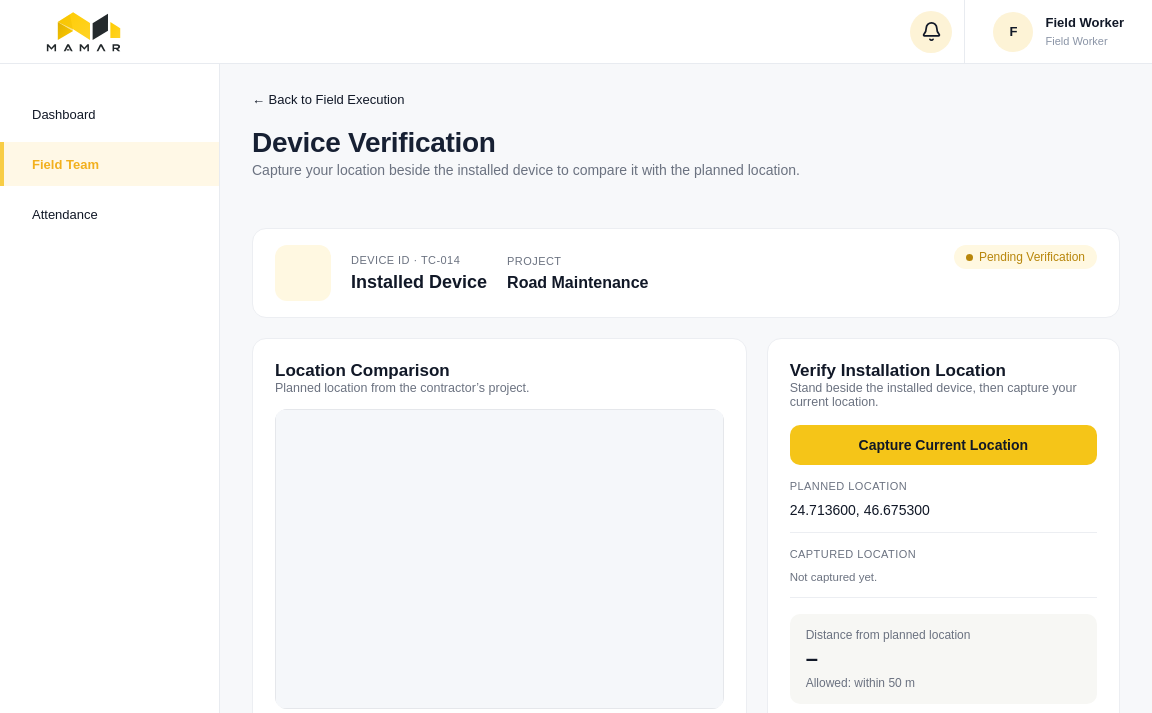
Field Worker DeviceVerification › allows verification at exactly the 50 metre boundary
Click the button "Capture Current Location".
click(943, 445)  # box [790, 425, 1097, 465]
(page scrolled)
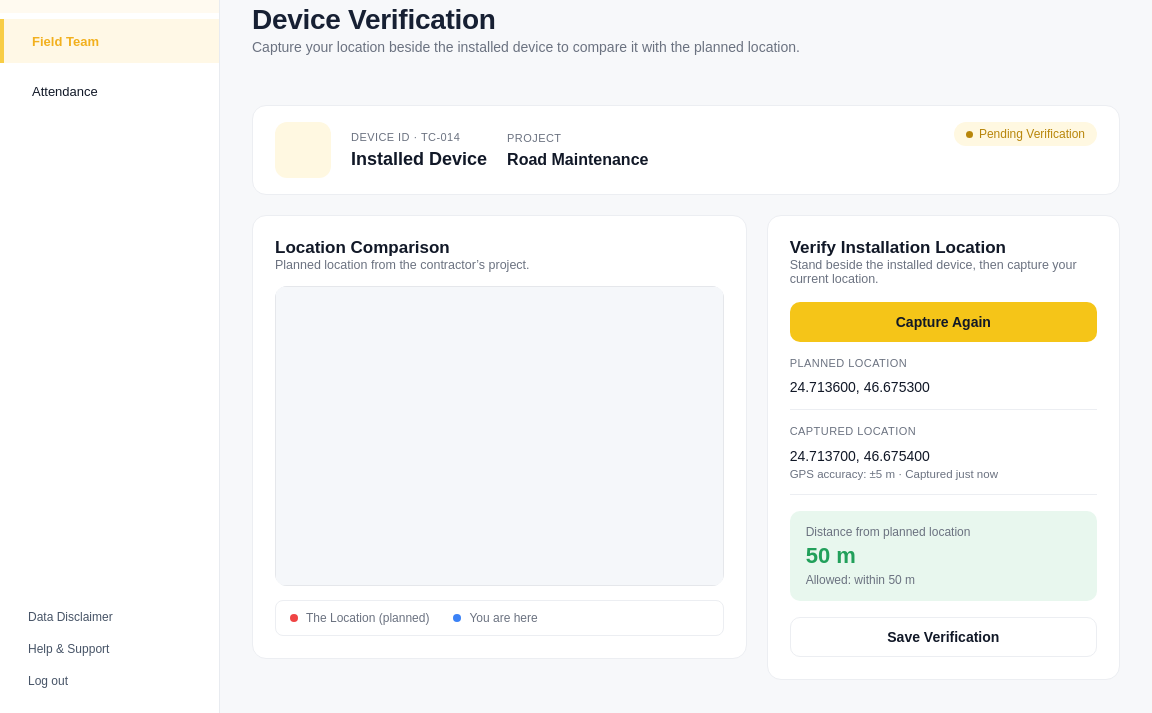
Now the button "Save Verification" is enabled, box [790, 617, 1097, 657]
